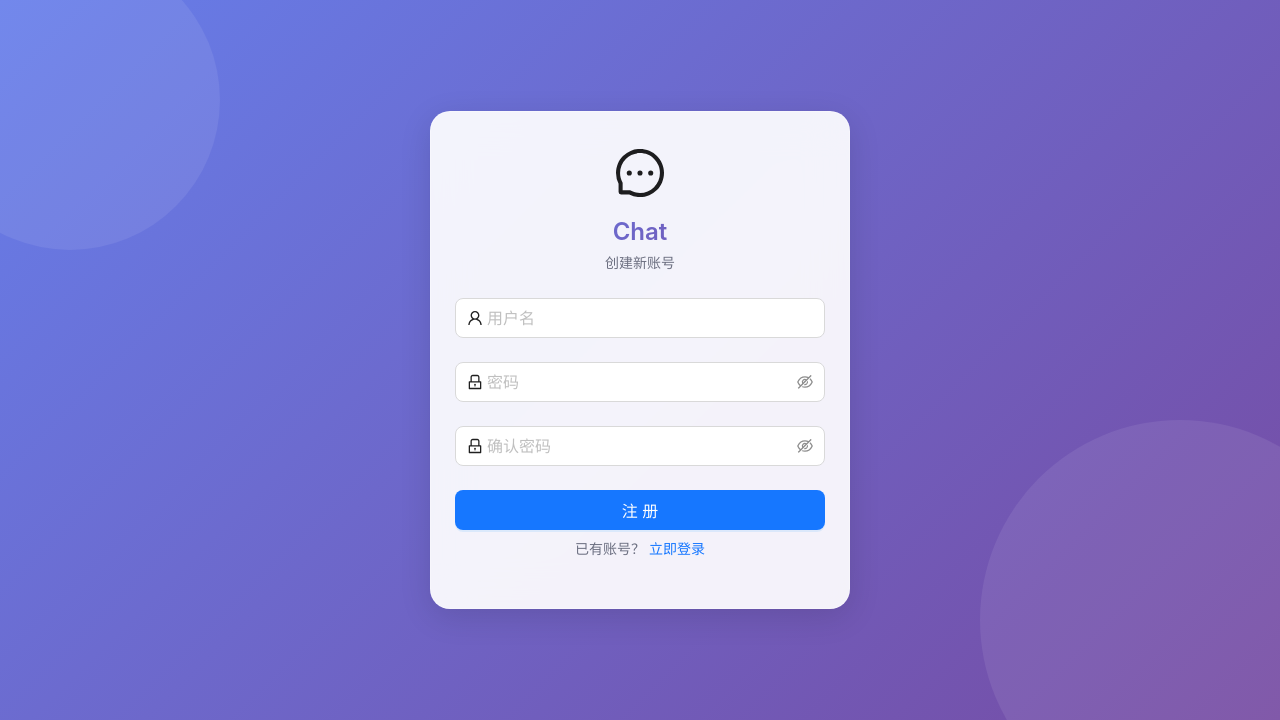
Scenario: Register - Validation & Error (v0.2.0) › 1.2.5: shows error message when username is taken
Type "existinguser" into the field with placeholder "用户名". click: (650, 318)
box: [487,306,813,330]
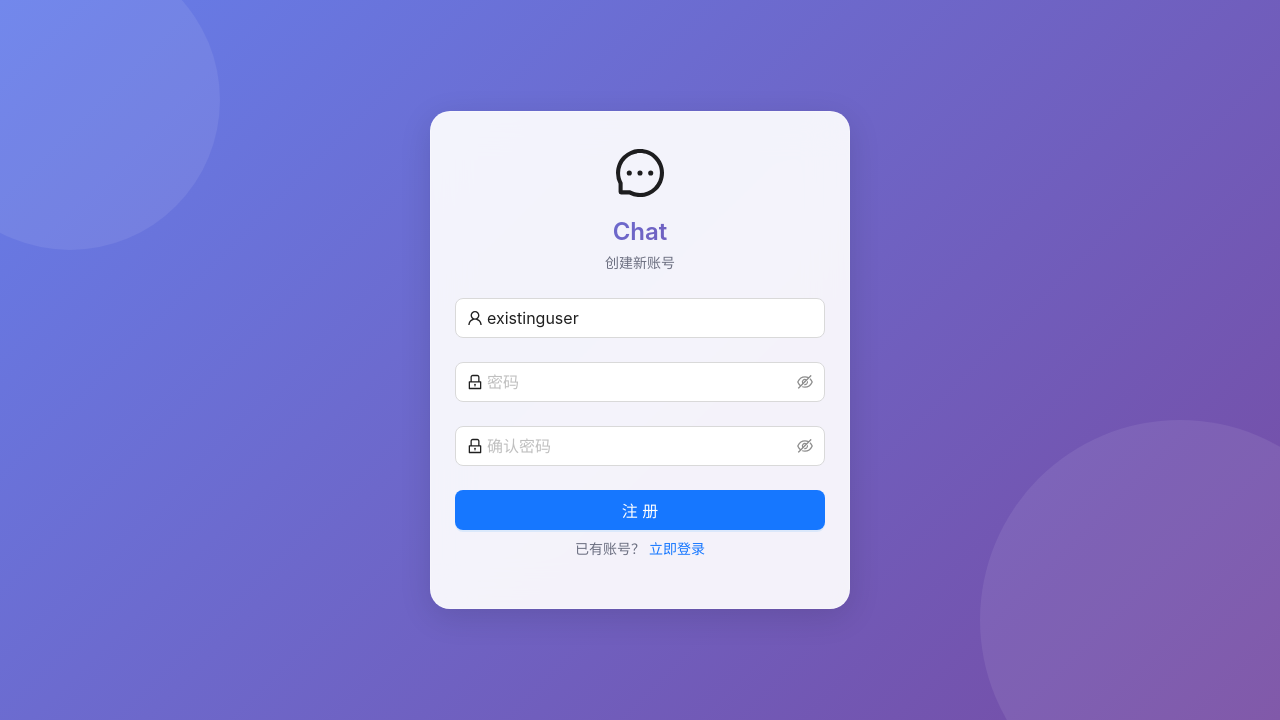
Type "password123" into the password field with placeholder "密码". click: (640, 382)
box: [487,370,793,394]
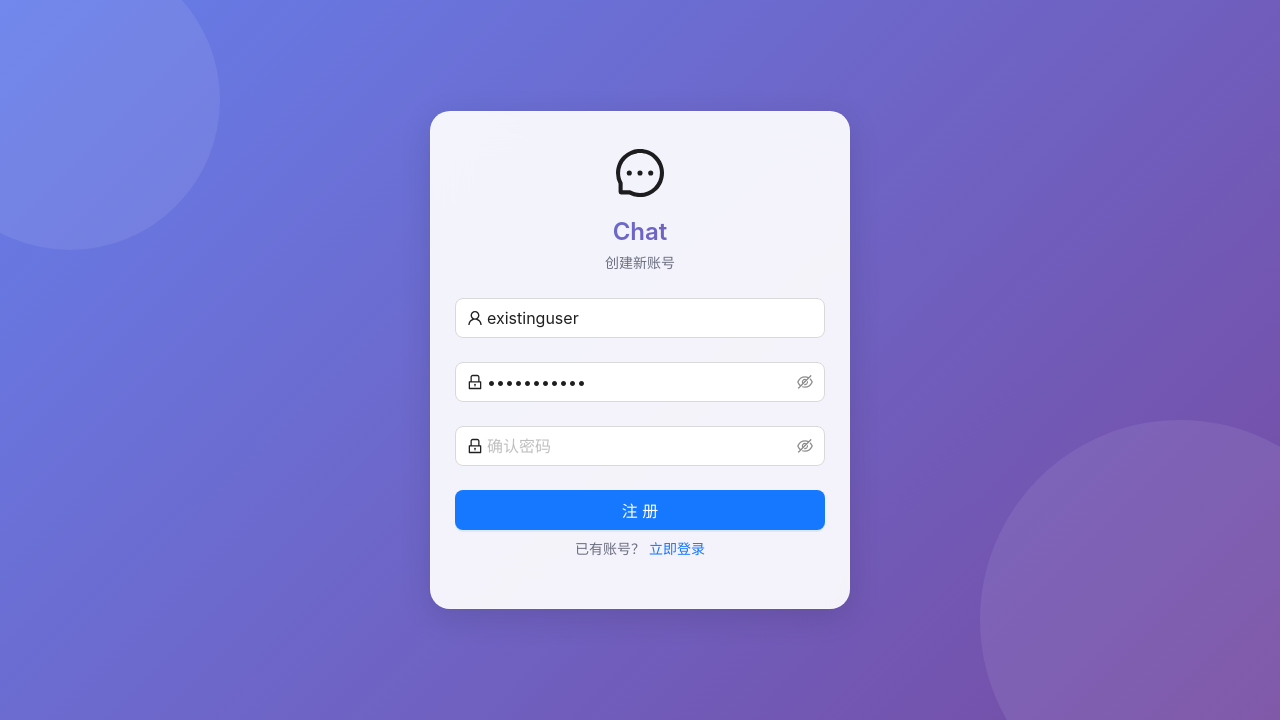
Type "password123" into the password field with placeholder "确认密码". click: (640, 446)
box: [487,434,793,458]
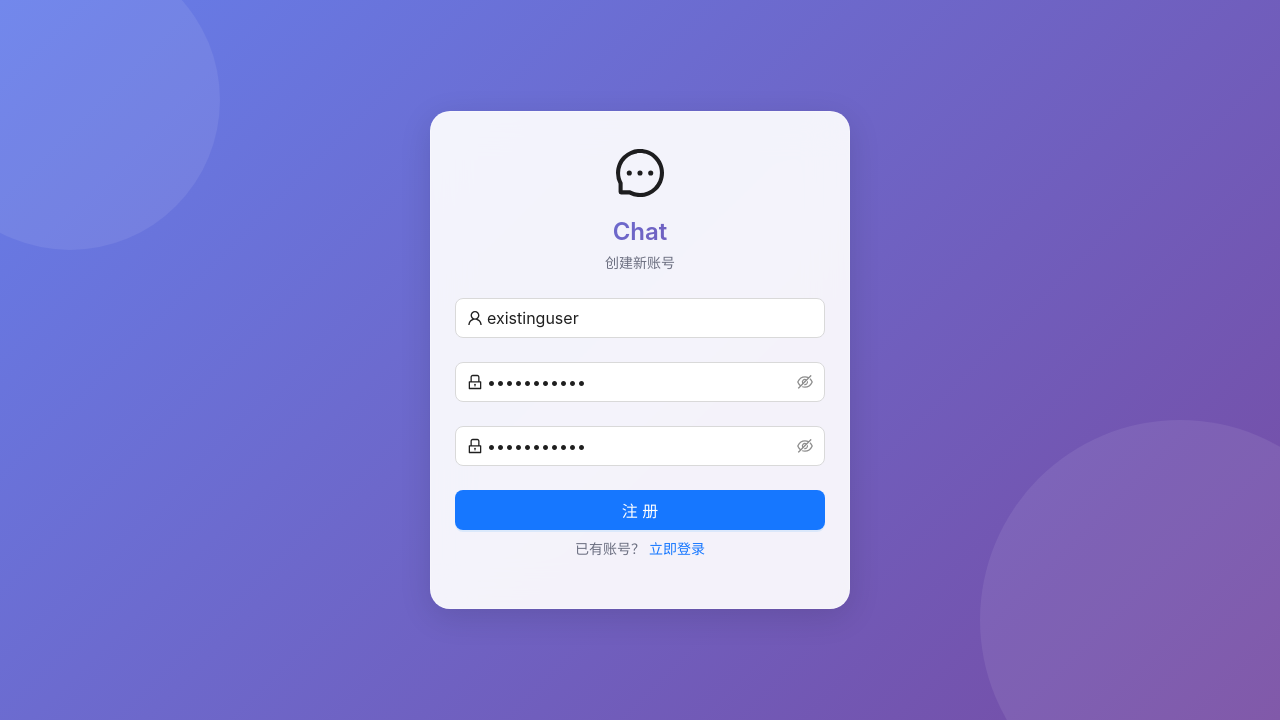
Click the button "注 册". click: (640, 510)
box: [455,490,825,530]
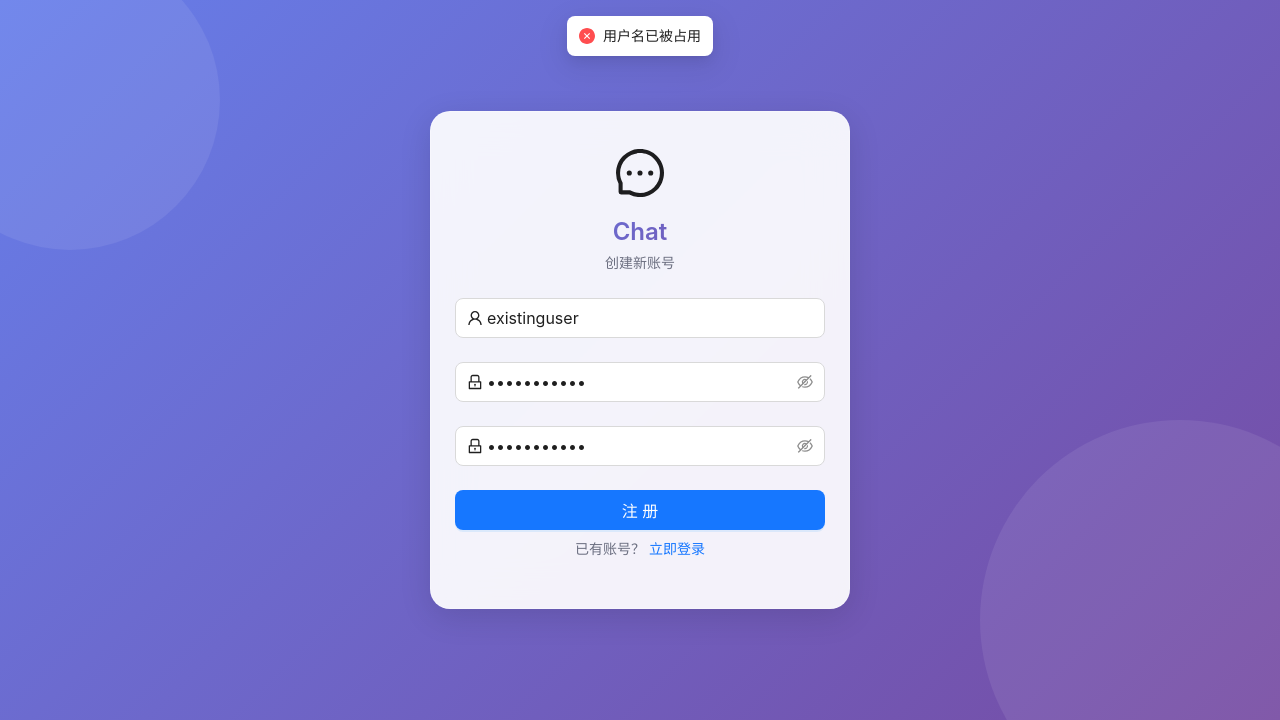
Expected: the element showing "用户名已被占用" is shown, [579,25,701,47]
